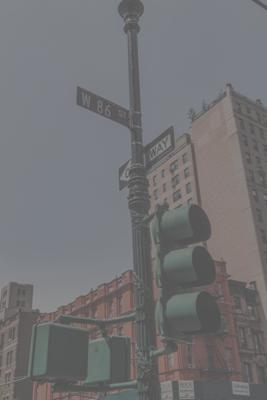International Road Signal Light: (152, 203, 222, 341)
